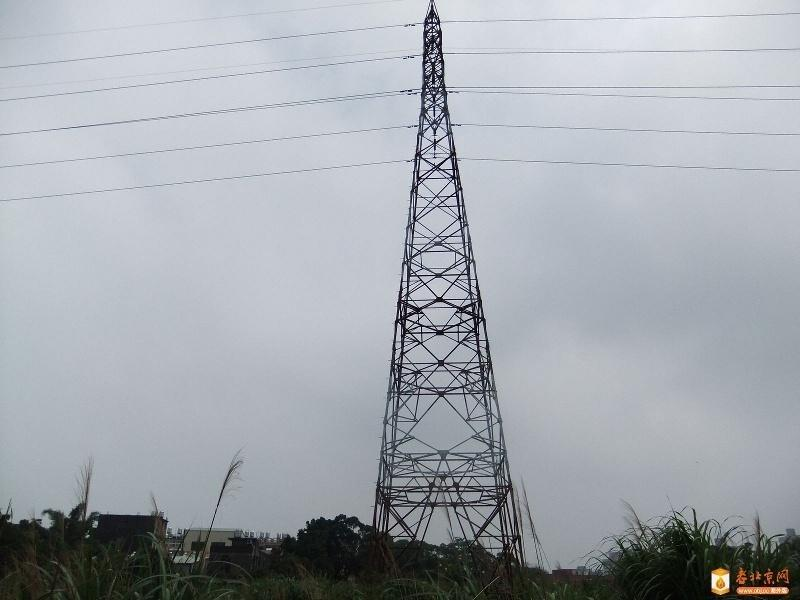power_tower: (365, 1, 526, 586)
